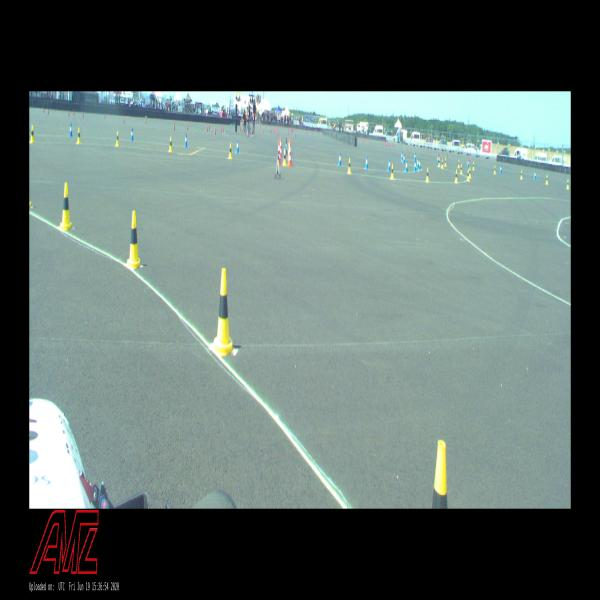blue_cone: (130, 128, 134, 140), (365, 156, 368, 169), (388, 158, 391, 171), (236, 140, 239, 152), (283, 146, 286, 158), (405, 160, 408, 171), (418, 159, 421, 170), (339, 153, 341, 165), (70, 124, 72, 136), (185, 134, 187, 146), (414, 160, 416, 171), (416, 158, 418, 169), (499, 166, 502, 173), (403, 154, 405, 163), (534, 171, 536, 179), (401, 152, 403, 160), (414, 152, 416, 160), (467, 160, 469, 167), (437, 156, 438, 163)
large_orange_cone: (276, 140, 281, 165), (287, 142, 292, 166), (287, 138, 290, 160), (280, 137, 282, 158)
yellow_cone: (212, 269, 236, 356), (127, 211, 141, 268), (60, 183, 72, 230), (30, 125, 34, 143), (168, 137, 173, 151), (390, 164, 394, 180), (116, 131, 120, 146), (77, 128, 81, 143), (425, 168, 429, 182), (282, 151, 286, 165), (348, 158, 351, 173), (229, 143, 232, 158), (455, 169, 458, 183), (545, 174, 548, 185), (460, 164, 463, 174), (566, 179, 569, 188), (520, 170, 523, 179), (467, 169, 469, 181), (444, 158, 447, 166), (469, 167, 471, 178), (472, 162, 475, 169), (442, 159, 444, 168), (458, 160, 460, 168), (438, 158, 440, 166), (494, 166, 496, 173)
